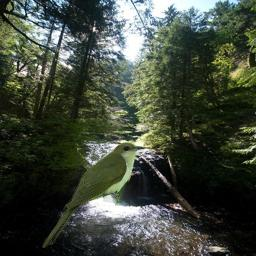Cuckoo: (42, 142, 146, 250)
